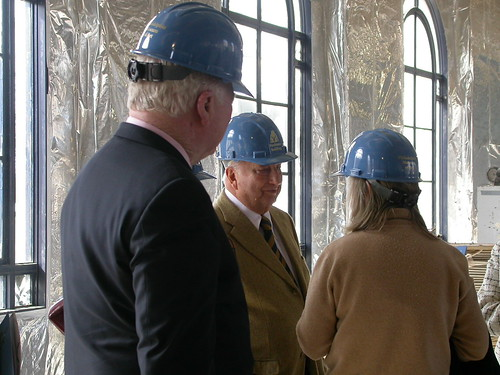person hardhat: (89, 1, 261, 373), (323, 117, 477, 375), (206, 107, 327, 375)
